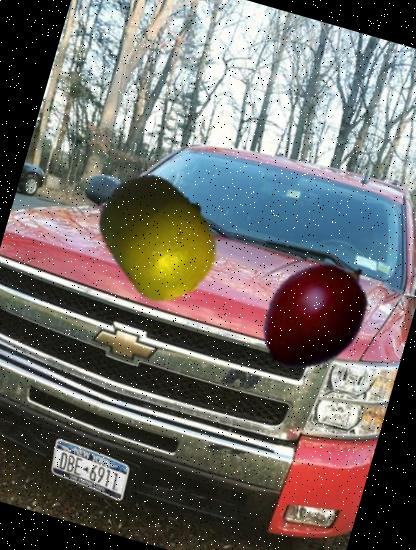Pomelo: (77, 154, 240, 316)
Tamarillo: (238, 237, 393, 392)
